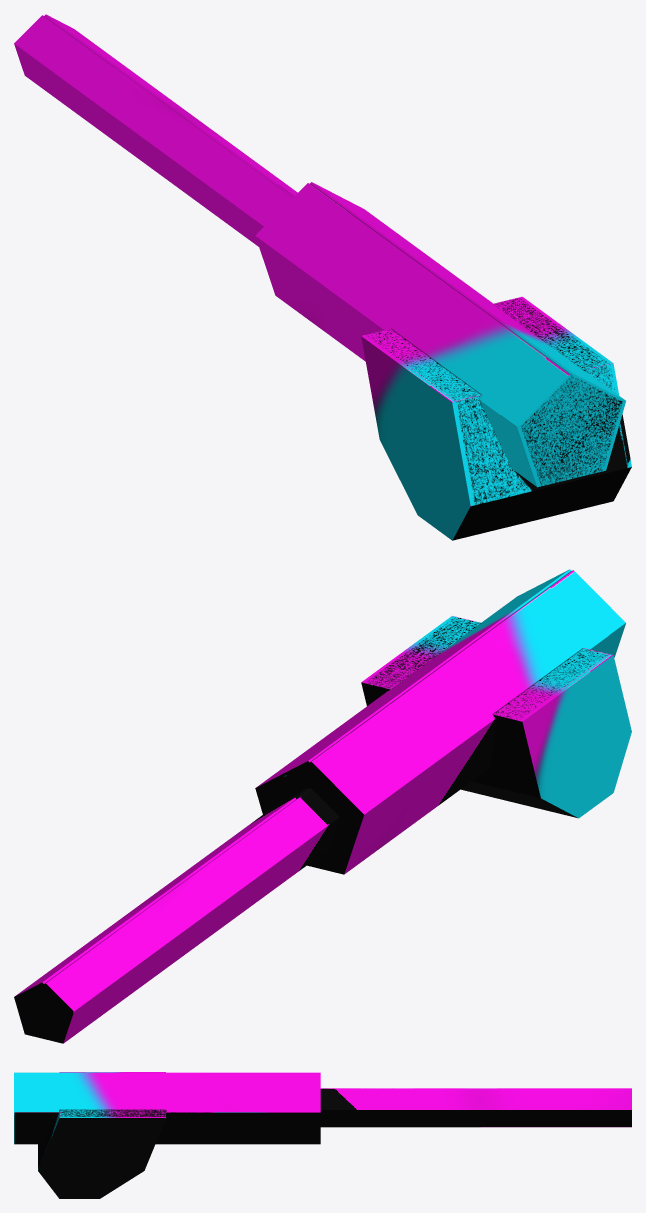
The model's file is laser_gun_2.obj.
3 views of the same model, one above another, from view 1: azimuth 30°, elevation 25°; view 2: azimuth 150°, elevation 25°; view 3: azimuth 270°, elevation 25° (orthographic). The views are drawn at different scales.
Parts seen in each view (by area): view 1: Pod_Laser_Gun_Cylinder.003; view 2: Pod_Laser_Gun_Cylinder.003; view 3: Pod_Laser_Gun_Cylinder.003.
Boxes of the visible parts, bbox=[...] form: Pod_Laser_Gun_Cylinder.003: bbox=[14, 14, 631, 540]; Pod_Laser_Gun_Cylinder.003: bbox=[14, 569, 631, 1043]; Pod_Laser_Gun_Cylinder.003: bbox=[14, 1072, 631, 1198].
Size of the model in its own units: 0.487 by 0.5059 by 2.76.
1 material, 1 textured.
